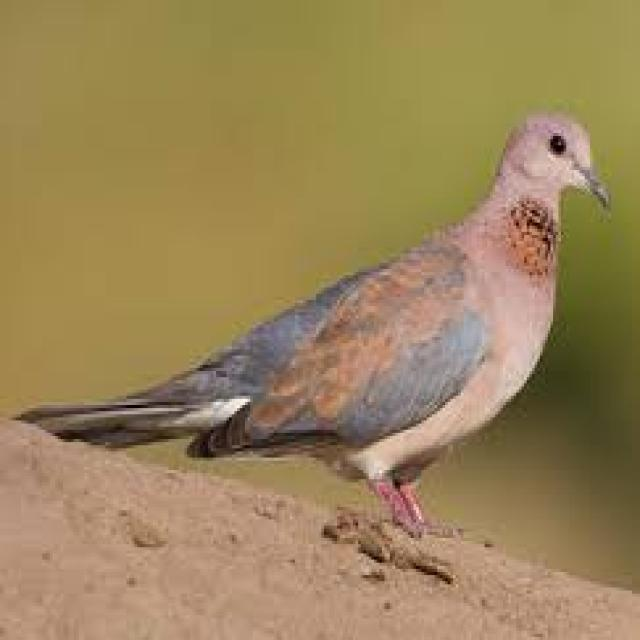pigeon: (3, 92, 616, 560)
